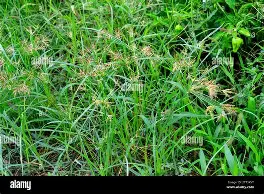weed: (0, 0, 263, 175)
